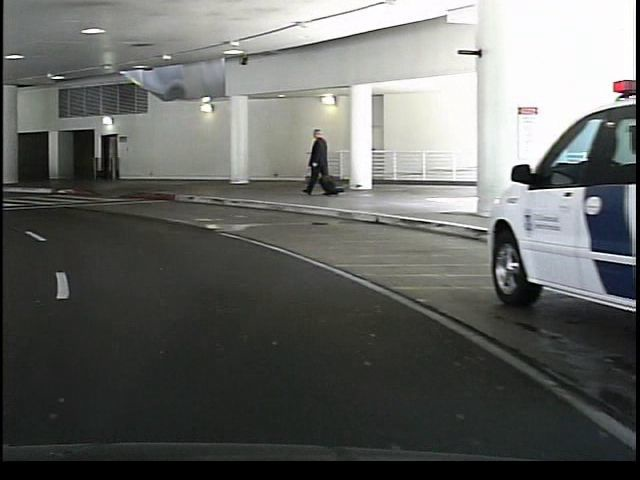person: (297, 126, 336, 204)
